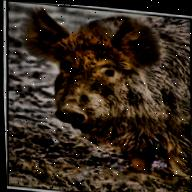boar: (43, 3, 192, 160)
